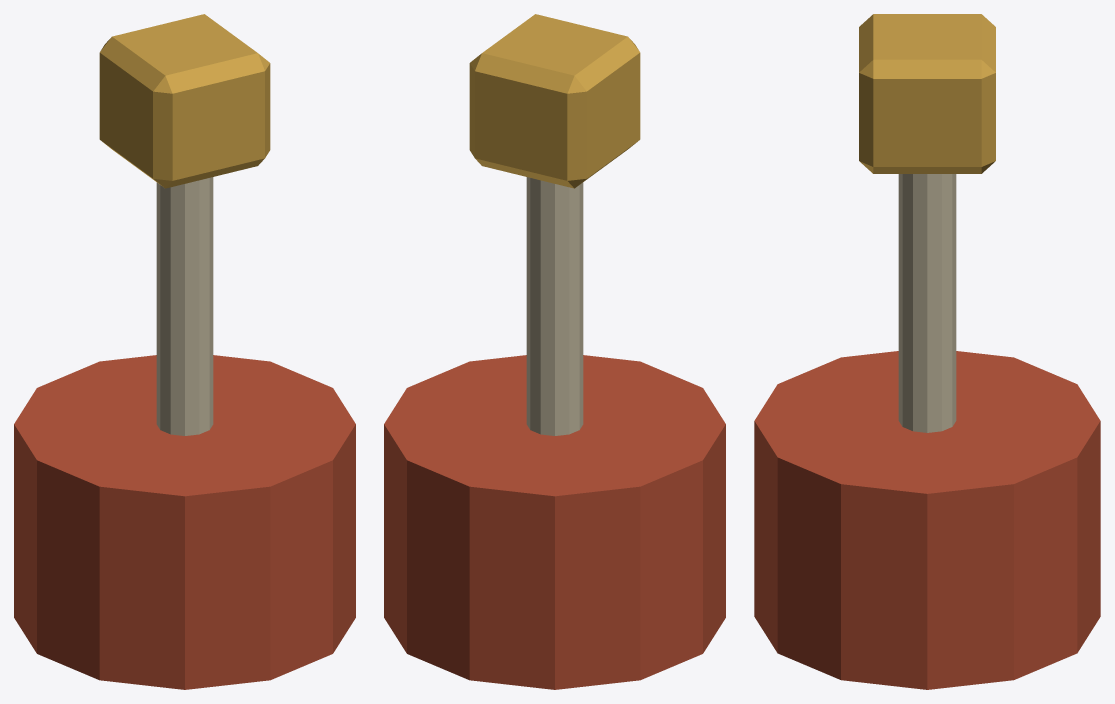
File: harbour_beacon.glb
3 renders of one model, left to right at view 1: azimuth 30°, elevation 25°; view 2: azimuth 150°, elevation 25°; view 3: azimuth 270°, elevation 25°, orthographic.
Parts seen in each view (by area): view 1: harbour_beacon; view 2: harbour_beacon; view 3: harbour_beacon.
Boxes of the visible parts, x1,y1,x2,y2 form: harbour_beacon: (14,14,355,689); harbour_beacon: (384,14,725,689); harbour_beacon: (754,14,1100,689).
Bounding box in the file's own units: 0.96 × 1.77 × 0.96.
